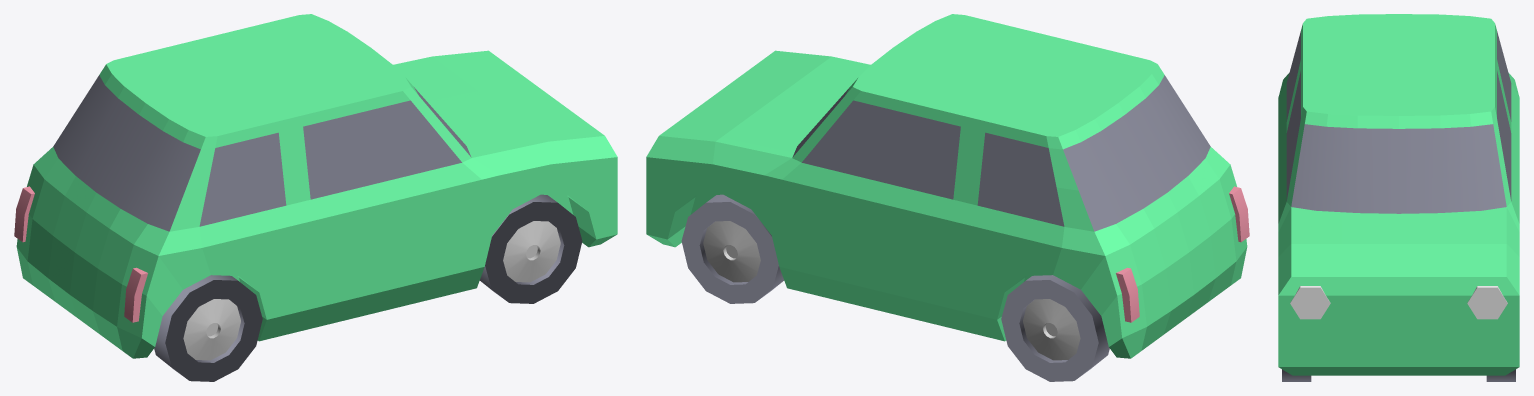
The model's file is CityGreen.gltf.
3 renders of one model, left to right at view 1: azimuth 30°, elevation 25°; view 2: azimuth 150°, elevation 25°; view 3: azimuth 270°, elevation 25°, orthographic. The views are drawn at different scales.
Visible parts, largest first — view 1: Cabin, Windows/Wheels, Wheels, Disk, Red lights; view 2: Cabin, Windows/Wheels, Wheels, Disk, Red lights; view 3: Cabin, Windows/Wheels, Front lights, Wheels.
Boxes of the visible parts, box(x1,y1,x2,y2) form: Cabin: box(16, 14, 617, 358); Windows/Wheels: box(53, 75, 471, 231); Wheels: box(154, 194, 582, 381); Disk: box(183, 221, 560, 360); Red lights: box(14, 186, 147, 322); Cabin: box(646, 14, 1247, 358); Windows/Wheels: box(792, 75, 1210, 231); Wheels: box(681, 194, 1109, 381); Disk: box(703, 221, 1080, 360); Red lights: box(1116, 186, 1249, 322); Cabin: box(1278, 14, 1519, 375); Windows/Wheels: box(1286, 31, 1511, 213); Front lights: box(1290, 286, 1507, 319); Wheels: box(1282, 369, 1515, 381).
Size of the model in its own units: 0.033 by 0.0153 by 0.0154.
